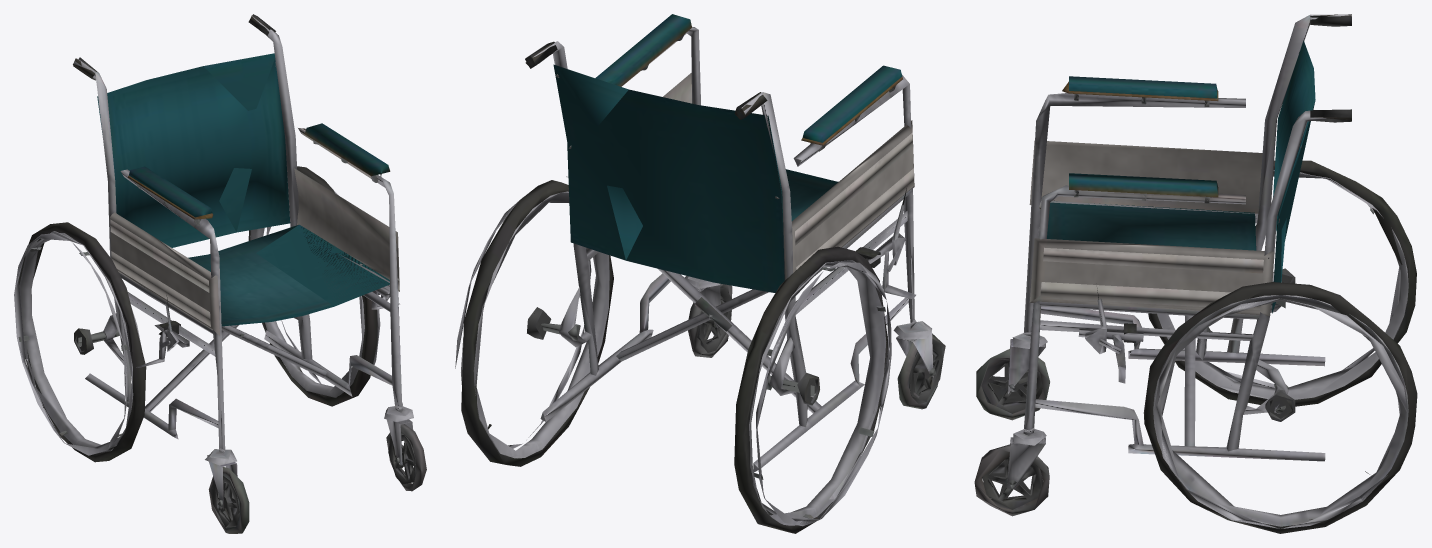
Rendered from wheelchair_01.glb.
3 views of the same model, side by side, from view 1: azimuth 30°, elevation 25°; view 2: azimuth 150°, elevation 25°; view 3: azimuth 270°, elevation 25° (orthographic). The views are drawn at different scales.
Visible parts, largest first — view 1: wheelchair_01; view 2: wheelchair_01; view 3: wheelchair_01.
Boxes of the visible parts, <box> form: wheelchair_01: <box>14,14,426,533</box>; wheelchair_01: <box>455,14,945,533</box>; wheelchair_01: <box>974,14,1417,533</box>.
Bounding box in the file's own units: 0.8241 × 1.1 × 1.08.
Materials: 1 (1 with a texture image).
